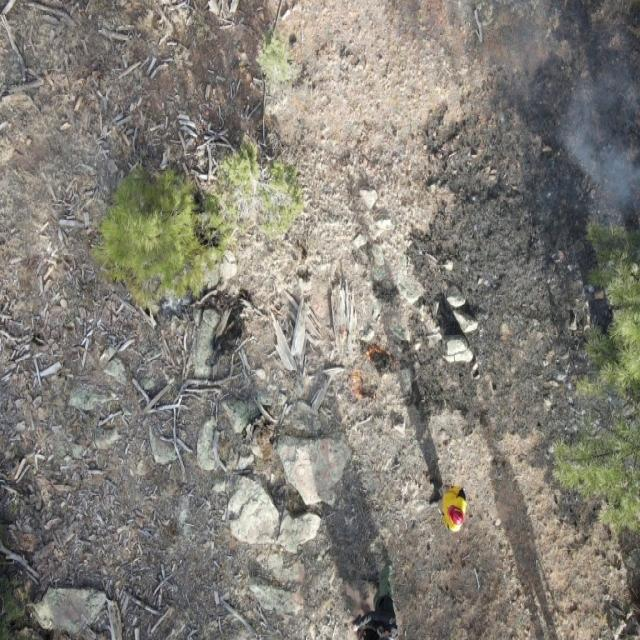fire: (357, 338, 393, 368), (351, 372, 377, 402)
smoke: (482, 0, 639, 212)
